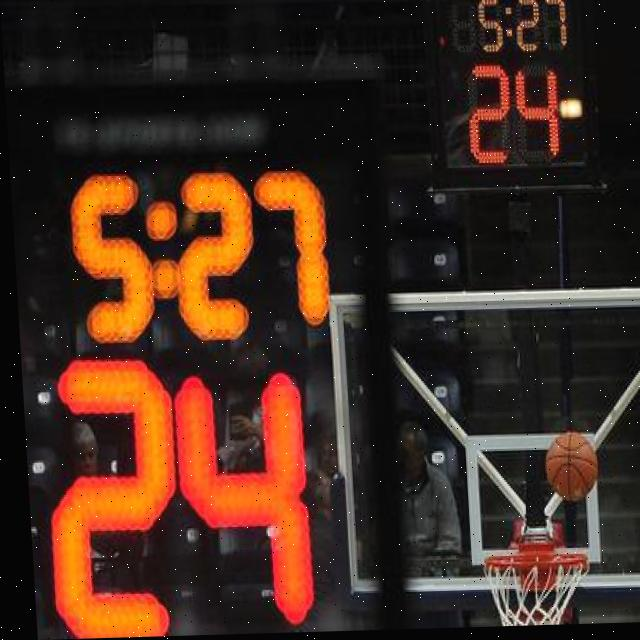basketball: (545, 432, 600, 503)
hoop: (484, 554, 593, 627)
